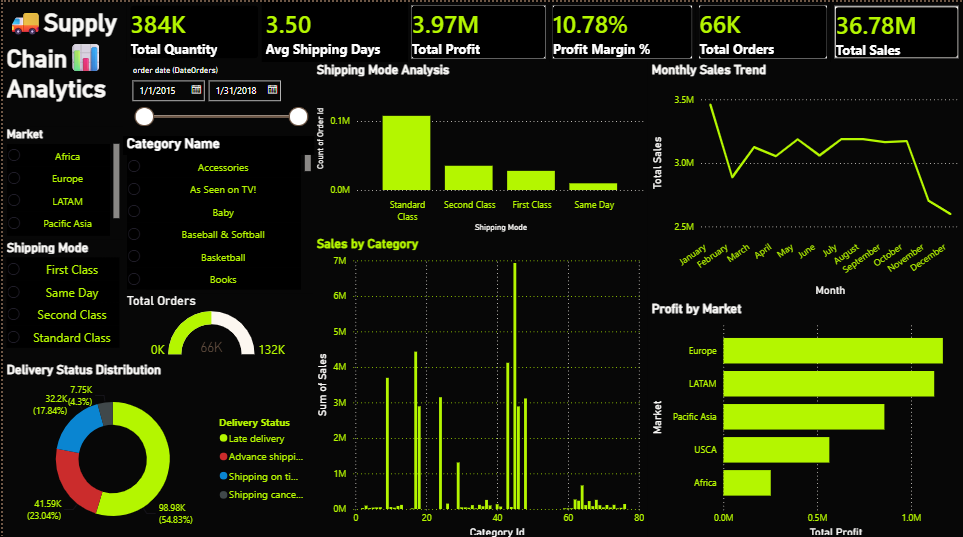

This screenshot's page, from the dashboard's own definition file:
{"tool":"powerbi","page":{"name":"Supply Chain Overview","canvas":[1280,720],"ordinal":0},"visuals":[{"type":"cardVisual","fields":{"Data":["Table.Avg Shipping Days"]},"box":[345,0,195,80],"z":0},{"type":"cardVisual","fields":{"Data":["Table.Profit Margin %"]},"box":[728.3,0,195,80],"z":1},{"type":"cardVisual","fields":{"Data":["Table.Total Orders"]},"box":[923.3,0,180,80],"z":2},{"type":"cardVisual","fields":{"Data":["Table.Total Profit"]},"box":[540,0,188.3,80],"z":3},{"type":"cardVisual","fields":{"Data":["Table.Total Quantity"]},"box":[165,0,180,80],"z":4},{"type":"cardVisual","fields":{"Data":["Table.Total Sales"]},"box":[1103.3,0,176.7,80],"z":5},{"type":"columnChart","title":"Sales by Category","fields":{"Y":["Sum(Supply_Chain_Data.Sales)"],"Category":["Supply_Chain_Data.Category Id"]},"box":[413.3,311.7,446.7,408.3],"z":6},{"type":"clusteredBarChart","title":"Profit by Market","fields":{"Y":["Table.Total Profit"],"Category":["Supply_Chain_Data.Market"]},"box":[860,398.3,420,321.7],"z":7},{"type":"lineChart","title":"Monthly Sales Trend","fields":{"Y":["Table.Total Sales"],"Category":["Supply_Chain_Data.order date (DateOrders).Variation.Date Hierarchy.Month"]},"box":[860,80,420,318.3],"z":8},{"type":"donutChart","title":"Delivery Status Distribution","fields":{"Category":["Supply_Chain_Data.Delivery Status"],"Y":["CountNonNull(Supply_Chain_Data.Order Id)"]},"box":[0,480,415,240],"z":9},{"type":"clusteredColumnChart","title":"Shipping Mode Analysis","fields":{"Category":["Supply_Chain_Data.Shipping Mode"],"Y":["CountNonNull(Supply_Chain_Data.Order Id)"]},"box":[413.3,80,446.7,231.7],"z":11},{"type":"listSlicer","fields":{"Values":["Supply_Chain_Data.Market"]},"box":[0,166.7,160,150],"z":12},{"type":"listSlicer","fields":{"Values":["Supply_Chain_Data.Category Name"]},"box":[160,178.3,255,210],"z":13},{"type":"listSlicer","fields":{"Values":["Supply_Chain_Data.Shipping Mode"]},"box":[0,316.7,160,163.3],"z":14},{"type":"slicer","fields":{"Values":["Supply_Chain_Data.order date (DateOrders)"]},"box":[160,80,255,98.3],"z":15},{"type":"gauge","fields":{"Y":["Table.Total Orders"]},"box":[160,388.3,253.3,91.7],"z":16},{"type":"kpi","fields":{"Indicator":["Table.📊Supply Chain Analytics"]},"box":[0,0,165,166.7],"z":17}]}

Visuals, with their boxes in screenshot pixels (x1, y1, x2, y2), scaled from the page's 1280x720 canvas onto the 963x537 screenshot:
cardVisual - Table.Avg Shipping Days: [260,0,406,60]
cardVisual - Table.Profit Margin %: [548,0,695,60]
cardVisual - Table.Total Orders: [695,0,830,60]
cardVisual - Table.Total Profit: [406,0,548,60]
cardVisual - Table.Total Quantity: [124,0,260,60]
cardVisual - Table.Total Sales: [830,0,962,60]
"Sales by Category" columnChart: [311,232,647,536]
"Profit by Market" clusteredBarChart: [647,297,962,536]
"Monthly Sales Trend" lineChart: [647,60,962,297]
"Delivery Status Distribution" donutChart: [0,358,312,536]
"Shipping Mode Analysis" clusteredColumnChart: [311,60,647,232]
listSlicer - Supply_Chain_Data.Market: [0,124,120,236]
listSlicer - Supply_Chain_Data.Category Name: [120,133,312,290]
listSlicer - Supply_Chain_Data.Shipping Mode: [0,236,120,358]
slicer - Supply_Chain_Data.order date (DateOrders): [120,60,312,133]
gauge - Table.Total Orders: [120,290,311,358]
kpi - Table.📊Supply Chain Analytics: [0,0,124,124]
